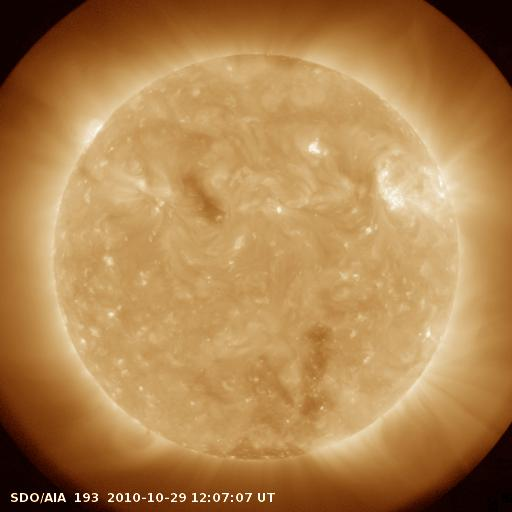coronal_hole: (288, 320, 337, 429), (195, 438, 320, 466), (179, 175, 232, 226)
